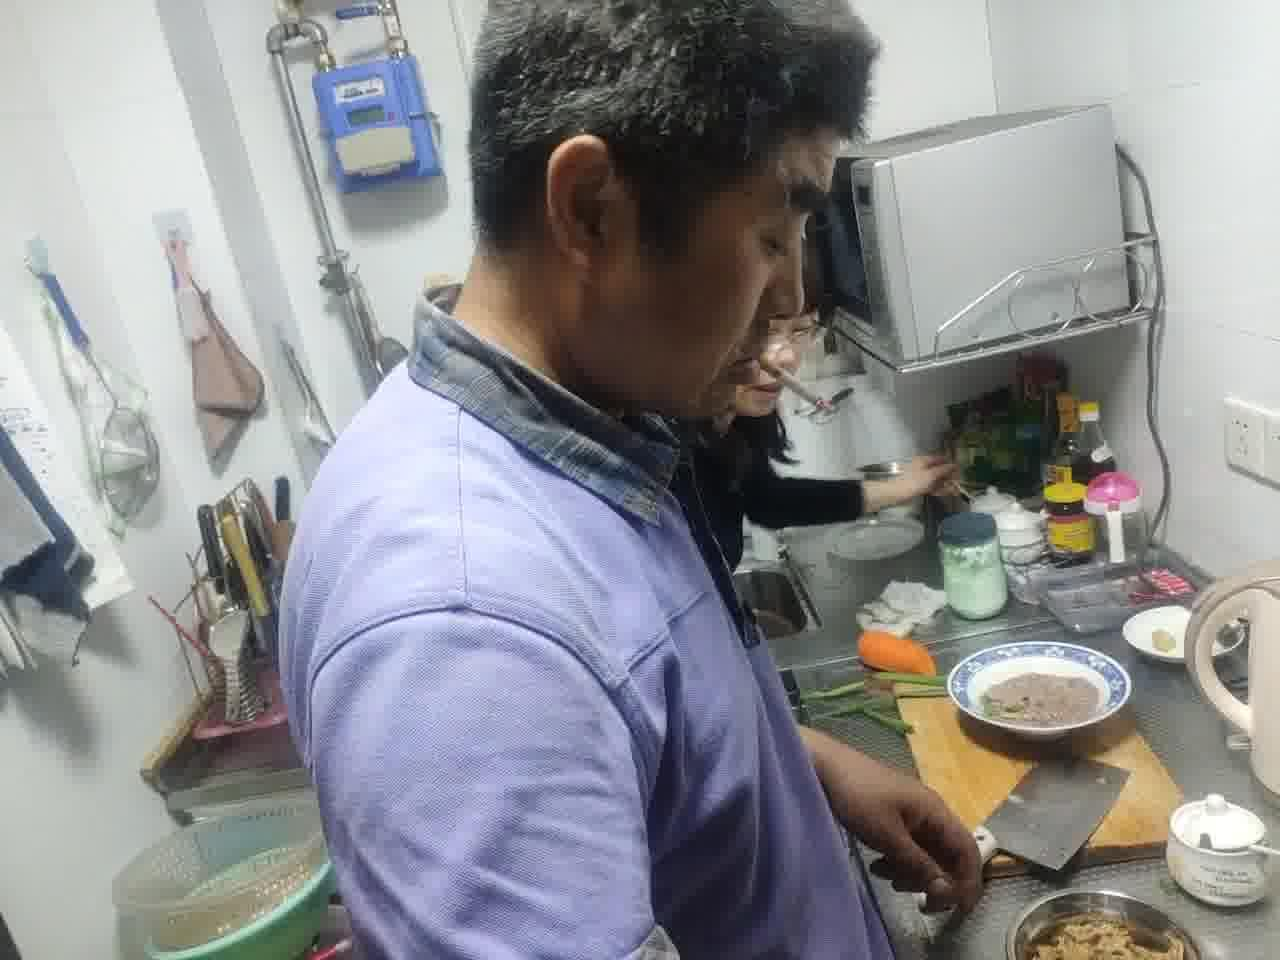smoke: (756, 351, 824, 408)
